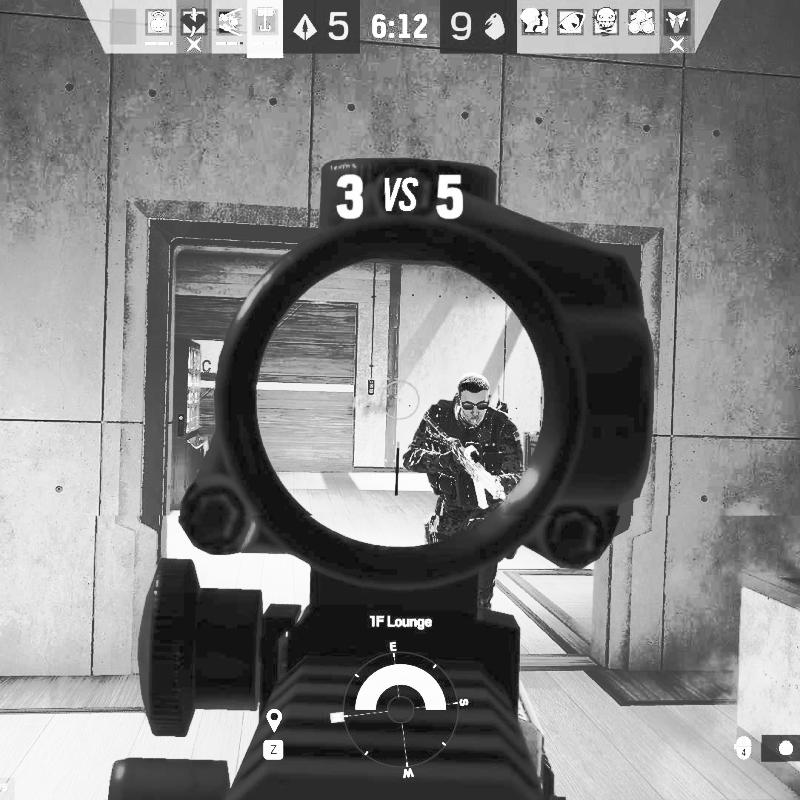Character: (401, 372, 527, 543)
Head: (456, 371, 491, 427)
